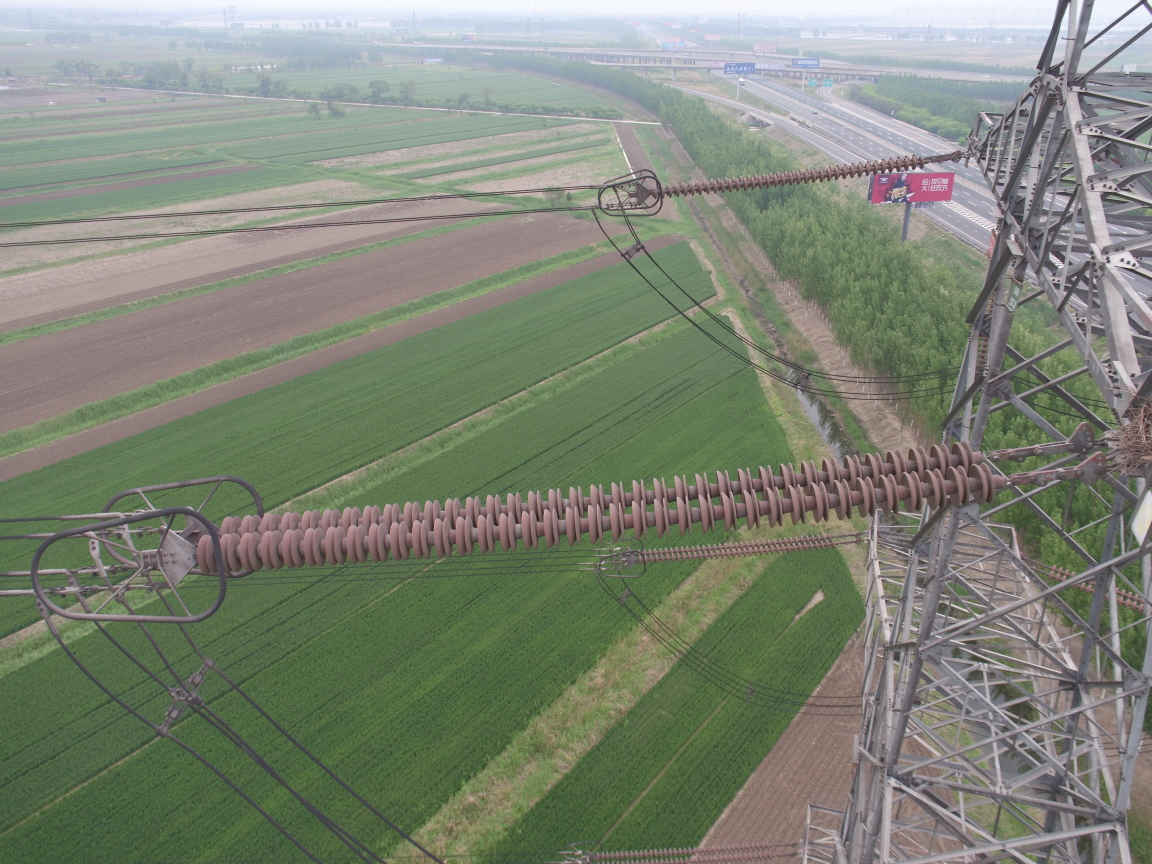insulator: (183, 438, 1044, 581), (650, 151, 926, 203)
